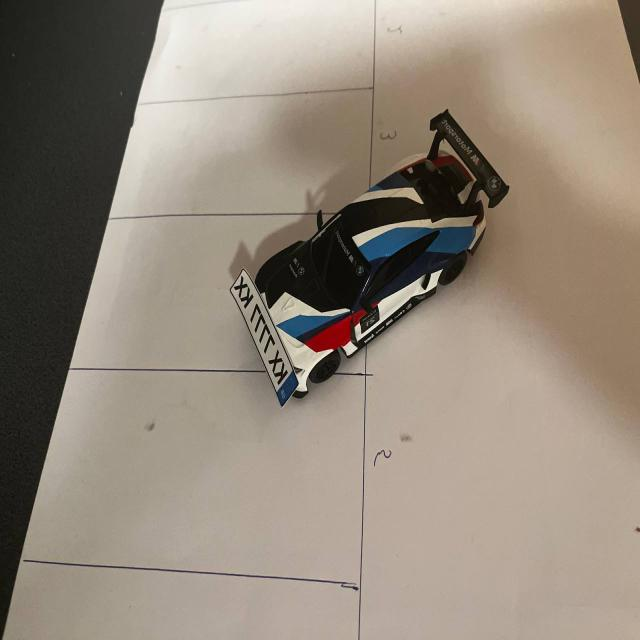cars: (202, 93, 537, 443)
